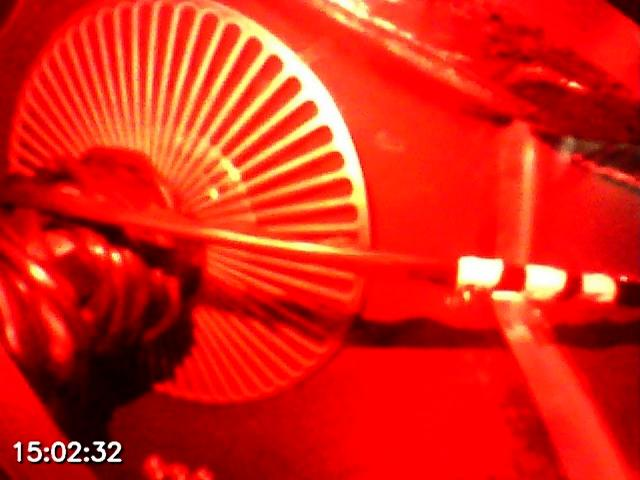white-dots: (455, 255, 617, 304)
